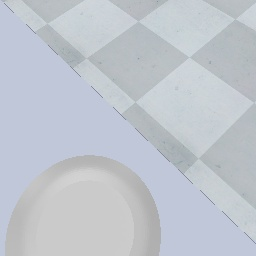Plate: (2, 154, 162, 256)
